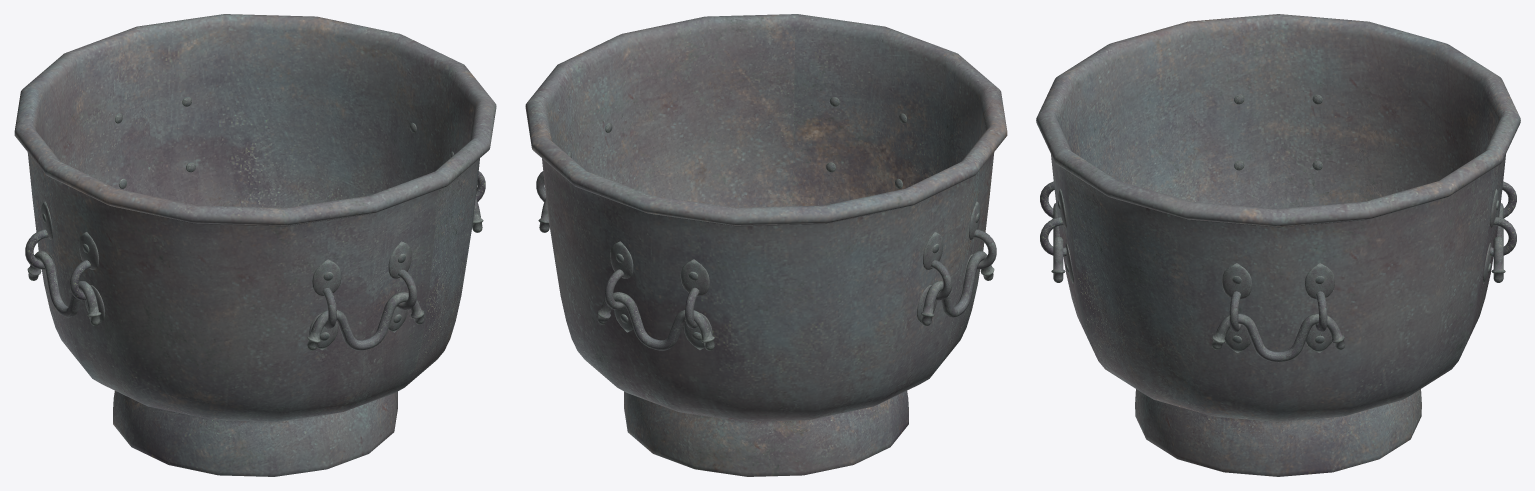
The model's file is SM_Bronze_burner.fbx.
The picture shows the model from 3 angles, left to right: view 1: azimuth 30°, elevation 25°; view 2: azimuth 150°, elevation 25°; view 3: azimuth 270°, elevation 25°; orthographic projection.
Visible parts, largest first — view 1: SM_Bronze_burner; view 2: SM_Bronze_burner; view 3: SM_Bronze_burner.
Boxes of the visible parts, x1,y1,x2,y2 form: SM_Bronze_burner: (14, 14, 496, 476); SM_Bronze_burner: (525, 14, 1007, 476); SM_Bronze_burner: (1036, 14, 1520, 476).
Size of the model in its own units: 55.76 by 55.76 by 38.61.
1 material, 1 textured.
